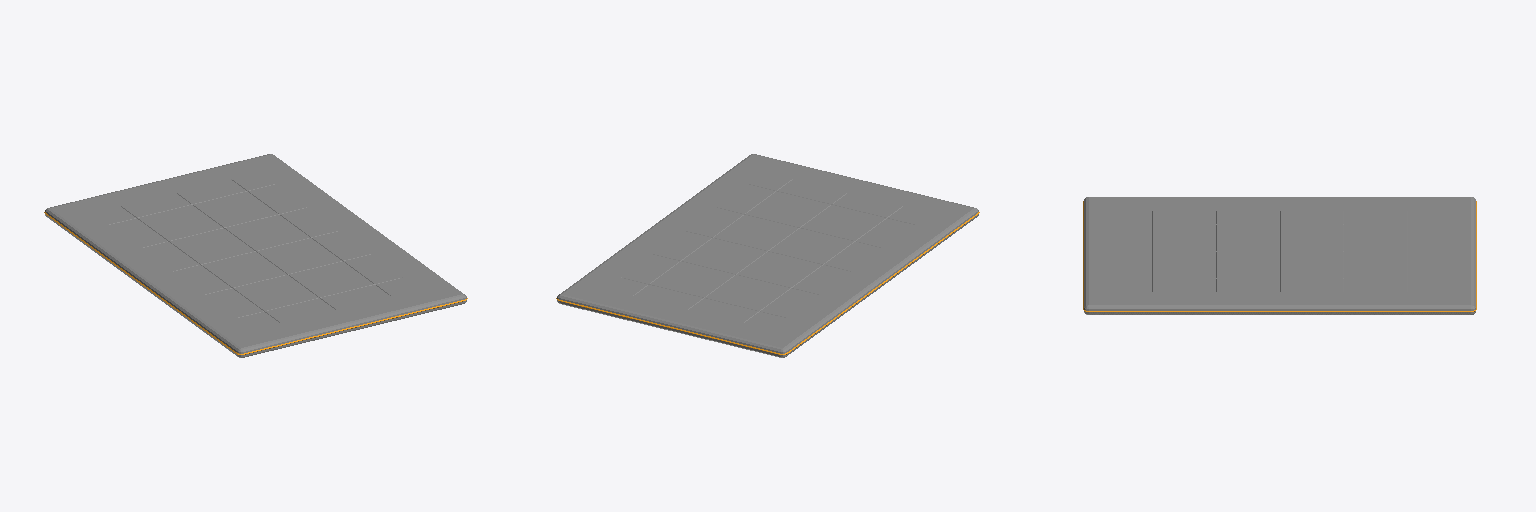
3 views of the same model, side by side, from view 1: azimuth 30°, elevation 25°; view 2: azimuth 150°, elevation 25°; view 3: azimuth 270°, elevation 25° (orthographic).
Visible parts, largest first — view 1: orange.002; view 2: orange.002; view 3: orange.002.
Boxes of the visible parts, <box> form: orange.002: <box>44,154,467,357</box>; orange.002: <box>556,154,979,357</box>; orange.002: <box>1083,197,1476,314</box>.
Bounding box in the file's own units: 3.66 × 0.1459 × 5.41.
Materials: 3 (1 with a texture image).